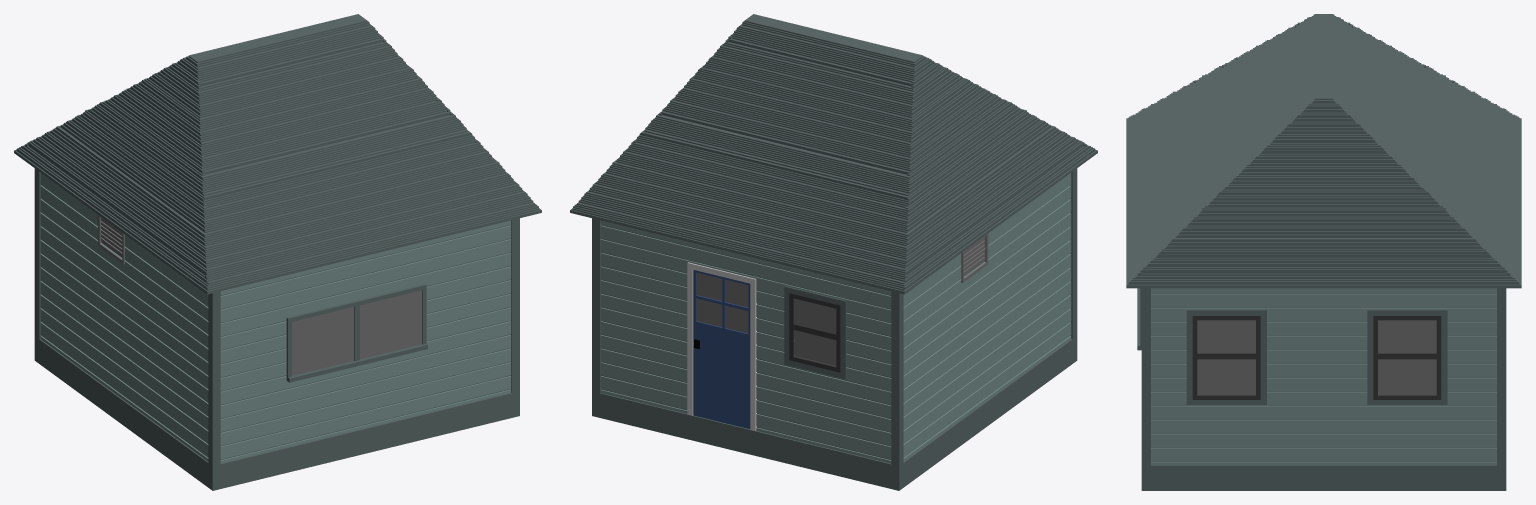
File: home21.obj
3 views of the same model, side by side, from view 1: azimuth 30°, elevation 25°; view 2: azimuth 150°, elevation 25°; view 3: azimuth 270°, elevation 25° (orthographic). The views are drawn at different scales.
Visible parts, largest first — view 1: home1-5; view 2: home1-5; view 3: home1-5.
Boxes of the visible parts, x1,y1,x2,y2 form: home1-5: [14, 14, 541, 490]; home1-5: [570, 14, 1097, 490]; home1-5: [1126, 14, 1521, 490].
Bounding box in the file's own units: 25.6 × 25.6 × 25.6.
1 material, 1 textured.
